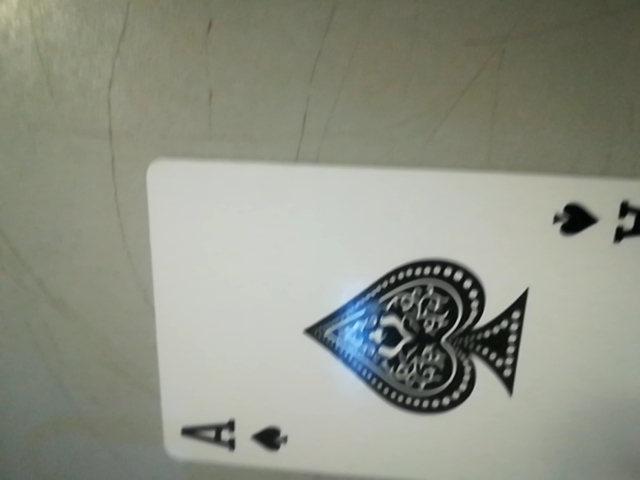ht a: (167, 411, 314, 474)
